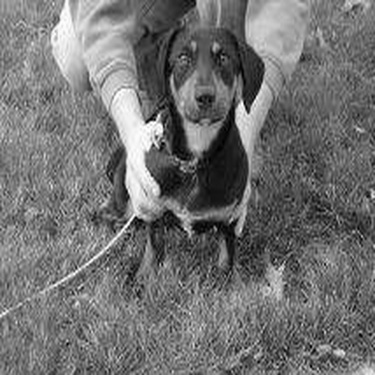dog: (90, 12, 271, 306)
